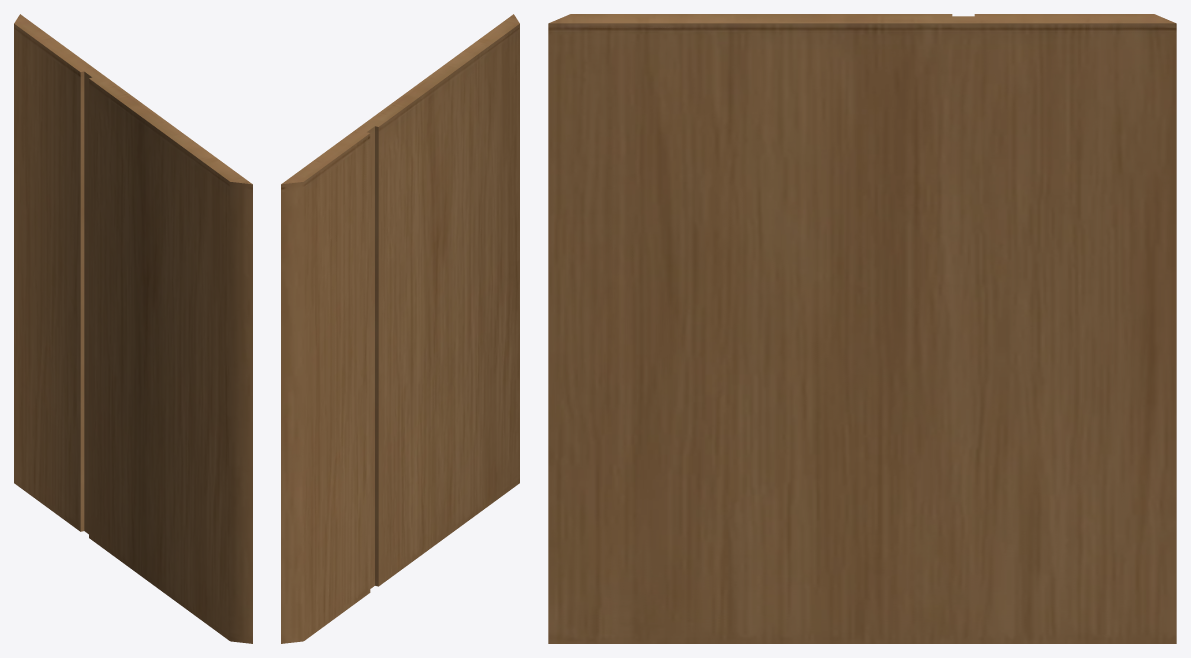
File: link_8__vertical_side_panel-40.glb
3 views of the same model, side by side, from view 1: azimuth 30°, elevation 25°; view 2: azimuth 150°, elevation 25°; view 3: azimuth 270°, elevation 25° (orthographic). The views are drawn at different scales.
Visible parts, largest first — view 1: geometry_0; view 2: geometry_0; view 3: geometry_0.
Part boxes in pixels (x1,y1,x2,y2): geometry_0: (14, 14, 252, 643); geometry_0: (281, 14, 519, 643); geometry_0: (548, 14, 1176, 643).
Size of the model in its own units: 0.021 by 0.6406 by 0.5881.
1 material, 1 textured.
